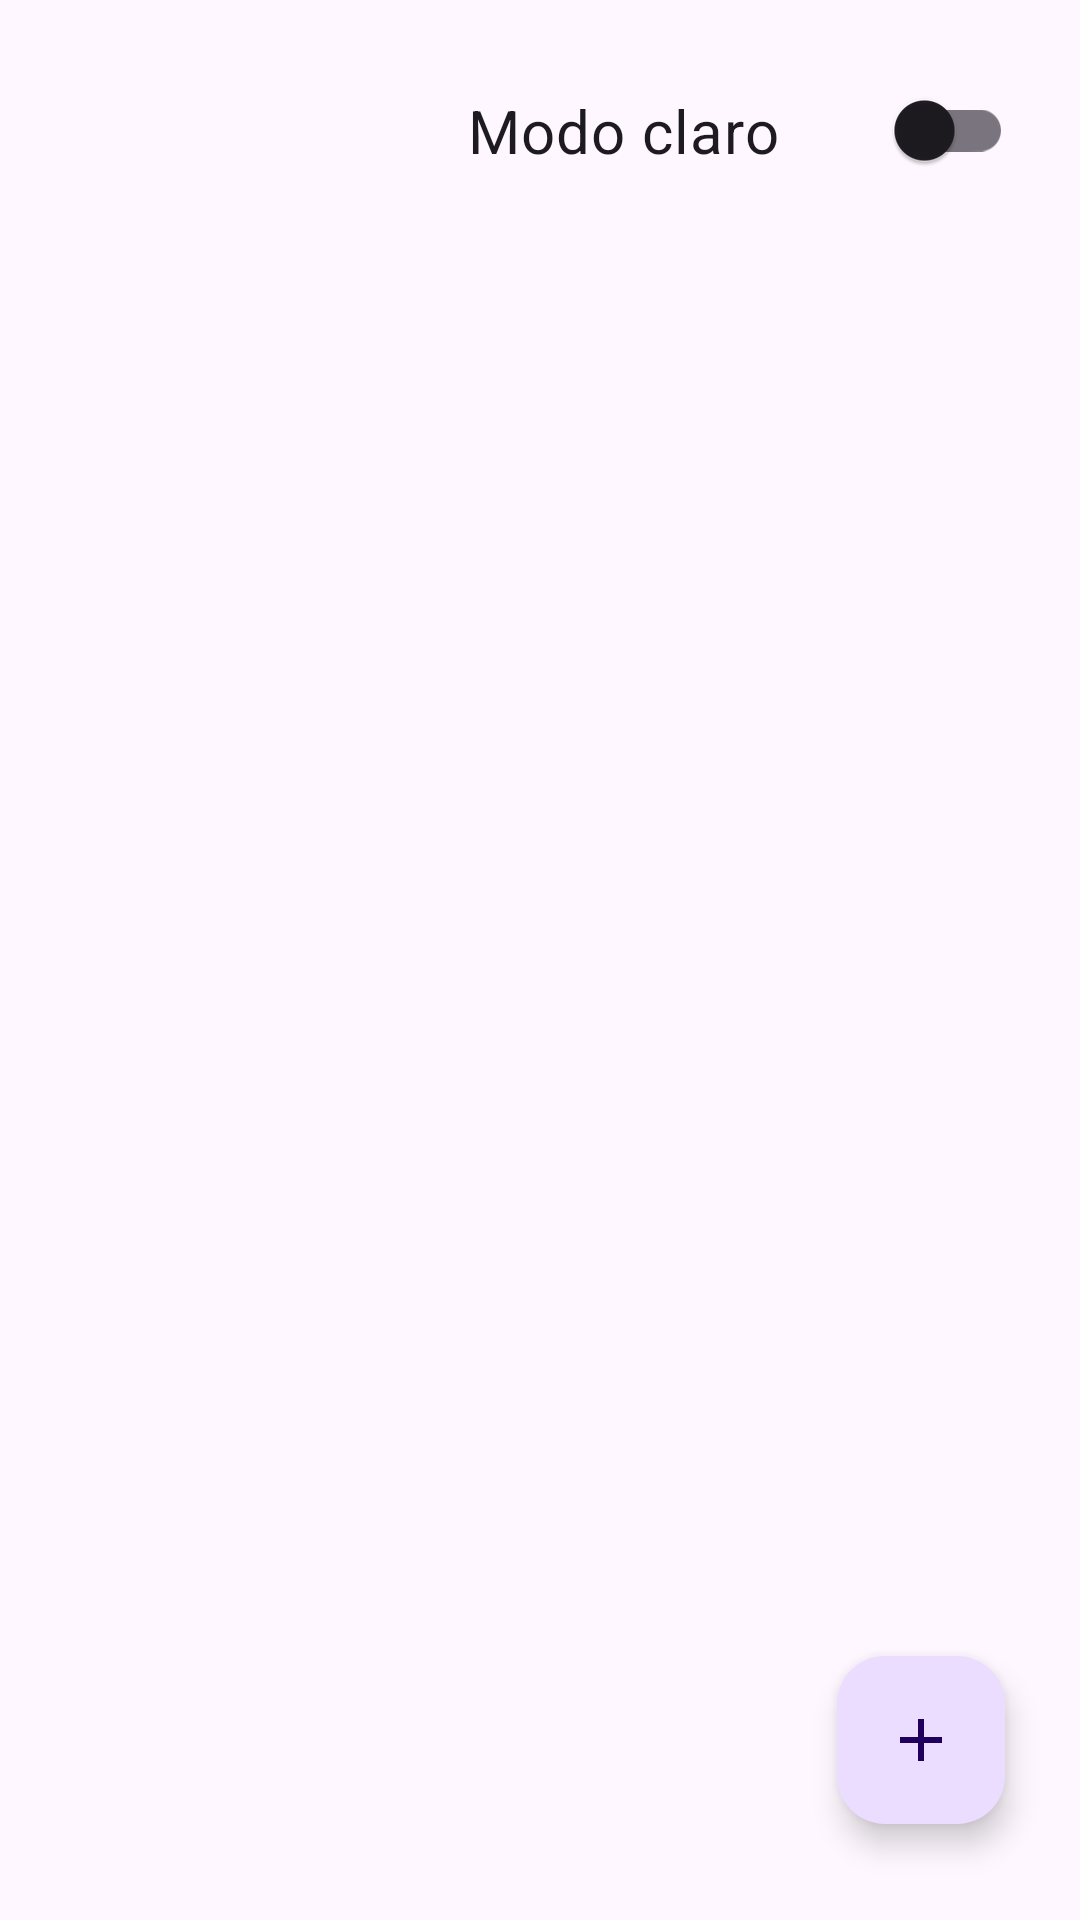

Icon click points for this 1080 x 1920 phone screenshot, format point (x, y):
add: point (921, 1740)
